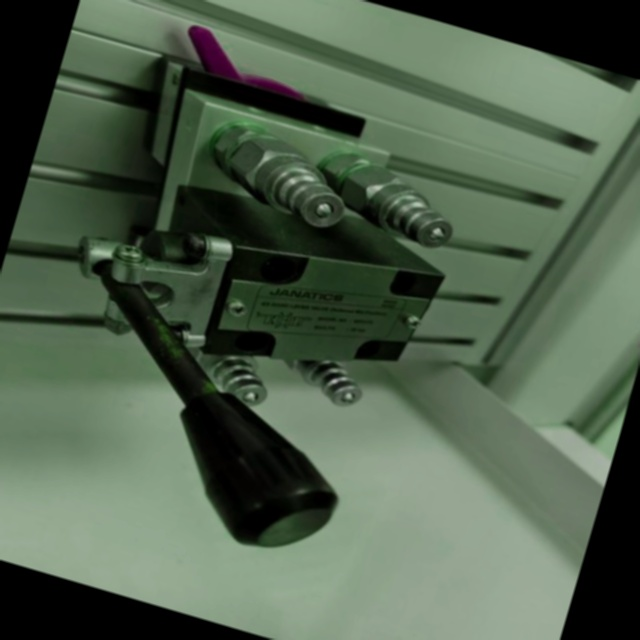4by3 hand lever valve: (3, 0, 513, 589)
